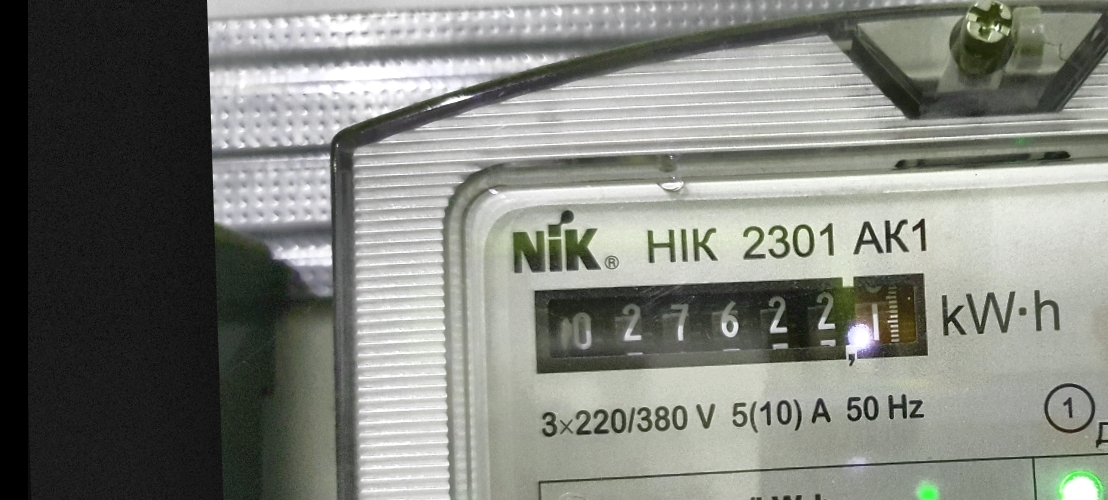0: (570, 307, 596, 351)
1: (868, 299, 885, 342)
2: (765, 293, 791, 335), (620, 300, 645, 343), (815, 288, 839, 331)
6: (718, 297, 741, 339)
7: (669, 300, 693, 344)
screen: (522, 262, 942, 380)
